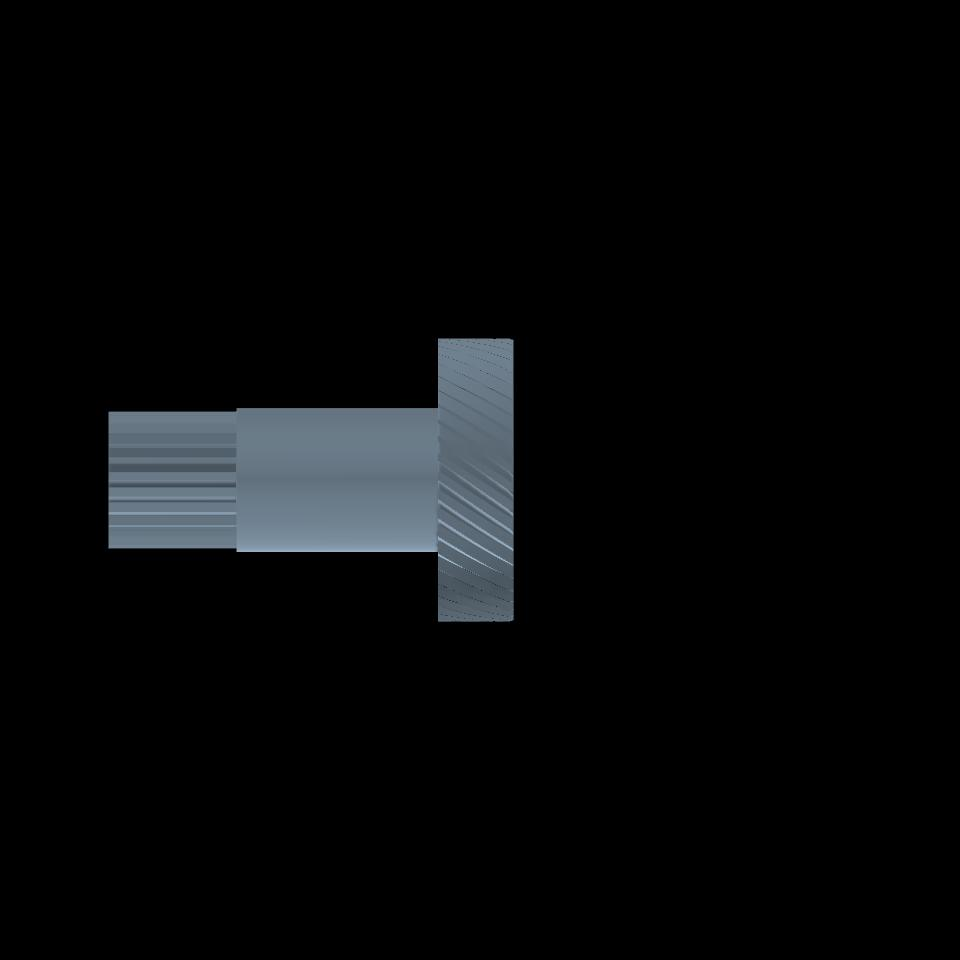Helical: (437, 338, 514, 622)
Straight: (109, 411, 235, 546)
